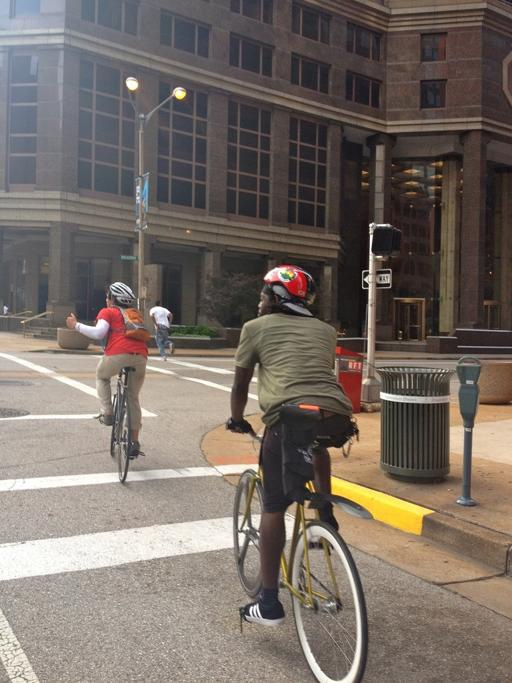non-vehicle: (230, 415, 368, 681), (90, 336, 141, 481)
